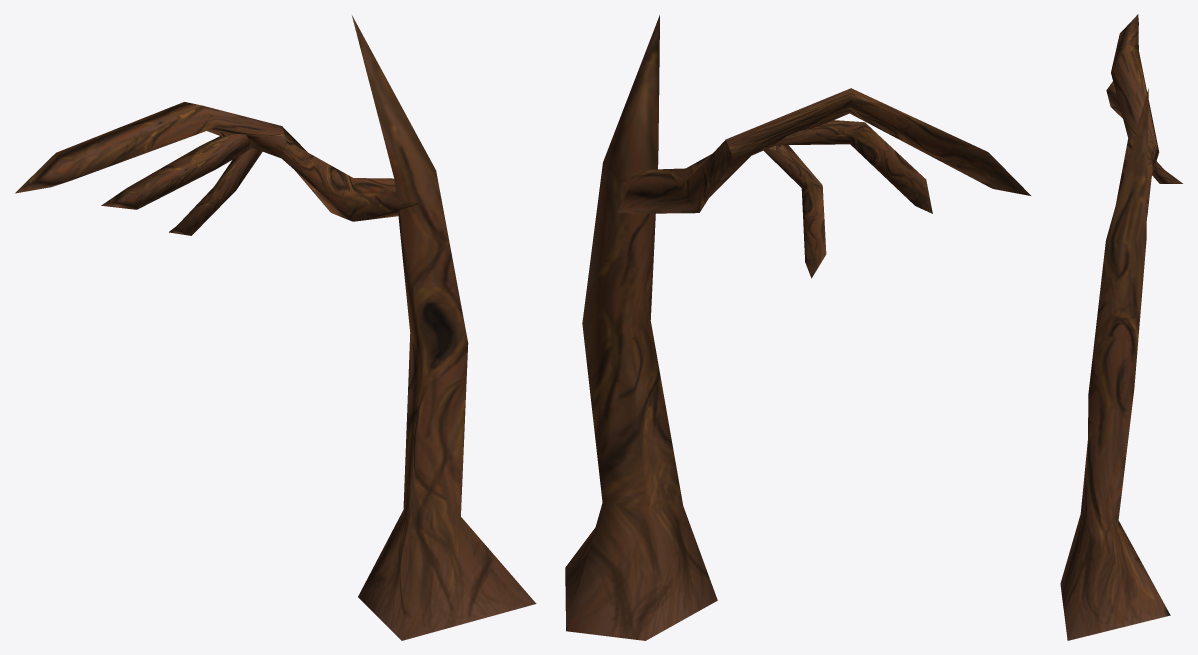
Rendered from handtree.fbx.
3 views of the same model, side by side, from view 1: azimuth 30°, elevation 25°; view 2: azimuth 150°, elevation 25°; view 3: azimuth 270°, elevation 25° (orthographic). The views are drawn at different scales.
Parts seen in each view (by area): view 1: Bridge:polySurface13; view 2: Bridge:polySurface13; view 3: Bridge:polySurface13.
Boxes of the visible parts, x1,y1,x2,y2 form: Bridge:polySurface13: (15, 15, 536, 640); Bridge:polySurface13: (565, 15, 1030, 640); Bridge:polySurface13: (1060, 14, 1182, 640).
Bounding box in the file's own units: 9.48 × 11.11 × 2.49.
